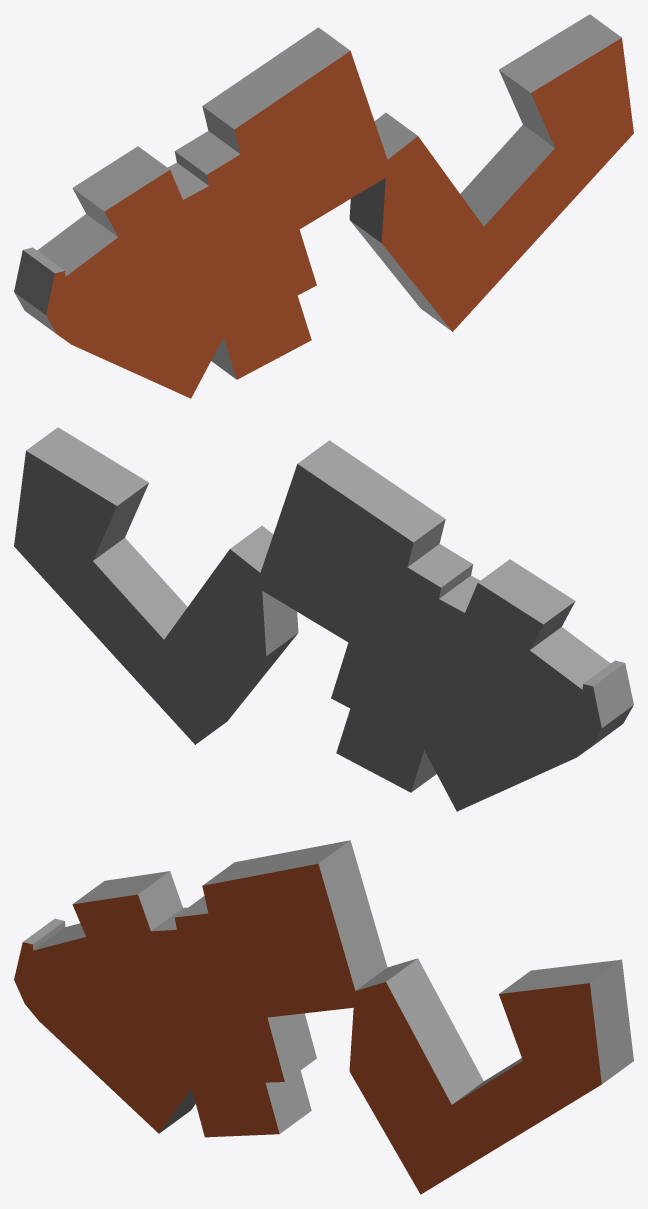
The model's file is construction_4816_assumed_A_Casa_h6m.obj.
3 renders of one model, top to bottom at view 1: azimuth 30°, elevation 25°; view 2: azimuth 150°, elevation 25°; view 3: azimuth 330°, elevation 25°, orthographic.
Parts seen in each view (by area): view 1: construction_4816_assumed_A_Casa; view 2: construction_4816_assumed_A_Casa; view 3: construction_4816_assumed_A_Casa.
Boxes of the visible parts, left/top/right/bottom form: construction_4816_assumed_A_Casa: left=14, top=14, right=633, bottom=398; construction_4816_assumed_A_Casa: left=14, top=427, right=633, bottom=811; construction_4816_assumed_A_Casa: left=14, top=840, right=633, bottom=1194.
Size of the model in its own units: 63.4 by 31.85 by 6.
